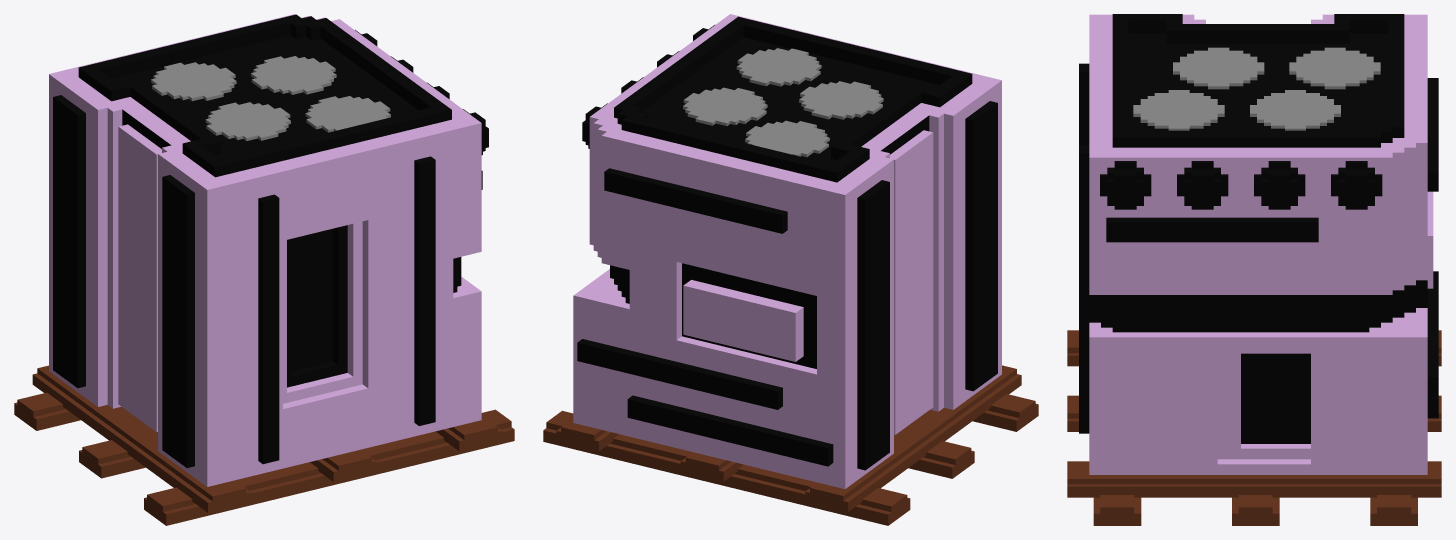
File: stove.fbx
3 views of the same model, side by side, from view 1: azimuth 30°, elevation 25°; view 2: azimuth 150°, elevation 25°; view 3: azimuth 270°, elevation 25° (orthographic). The views are drawn at different scales.
Visible parts, largest first — view 1: Cube, Cube.005, Cube.006, Cube.002, Cylinder, Cube.003, Cylinder.003; view 2: Cube, Cube.005, Cube.002, Cylinder, Cube.003, Cube.008, Cube.007, Cube.009, Cylinder.003; view 3: Cube, Cylinder, Cube.003, Cylinder.003, Cube.004, Cube.002, Cube.006, Cube.007, Cube.009.
Part boxes in pixels (left/top/right/bottom): Cube: left=49, top=14, right=481, bottom=486; Cube.005: left=53, top=95, right=194, bottom=467; Cube.006: left=258, top=156, right=435, bottom=464; Cube.002: left=14, top=392, right=514, bottom=525; Cylinder: left=151, top=56, right=390, bottom=140; Cube.003: left=32, top=365, right=502, bottom=512; Cylinder.003: left=355, top=30, right=488, bottom=154; Cube: left=573, top=14, right=1001, bottom=488; Cube.005: left=857, top=101, right=997, bottom=470; Cube.002: left=543, top=394, right=1038, bottom=525; Cylinder: left=683, top=48, right=883, bottom=157; Cube.003: left=556, top=365, right=1021, bottom=511; Cube.008: left=627, top=395, right=833, bottom=466; Cube.007: left=577, top=339, right=782, bottom=409; Cube.009: left=604, top=168, right=787, bottom=233; Cylinder.003: left=582, top=25, right=714, bottom=148; Cube: left=1089, top=14, right=1433, bottom=474; Cylinder: left=1133, top=47, right=1380, bottom=130; Cube.003: left=1067, top=330, right=1441, bottom=497; Cylinder.003: left=1100, top=161, right=1382, bottom=209; Cube.004: left=1106, top=217, right=1318, bottom=242; Cube.002: left=1093, top=495, right=1417, bottom=525; Cube.006: left=1079, top=63, right=1089, bottom=433; Cube.007: left=1427, top=271, right=1438, bottom=396; Cube.009: left=1427, top=78, right=1438, bottom=191.
Size of the model in its own units: 1627 by 1507 by 1417.
